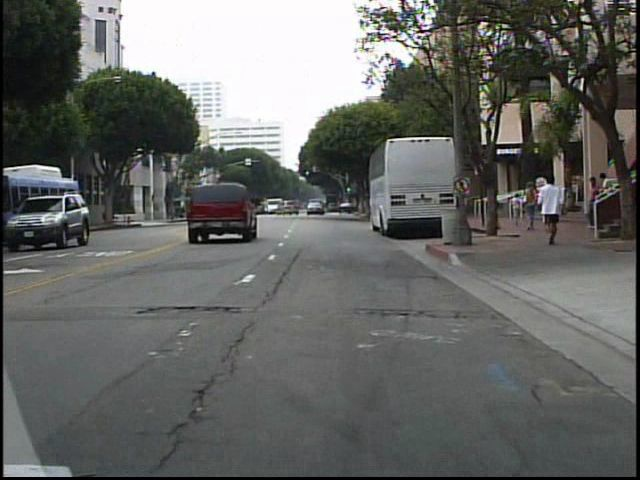person: (540, 174, 570, 250), (597, 169, 615, 230), (582, 173, 600, 232), (522, 180, 539, 235), (509, 191, 525, 227)
